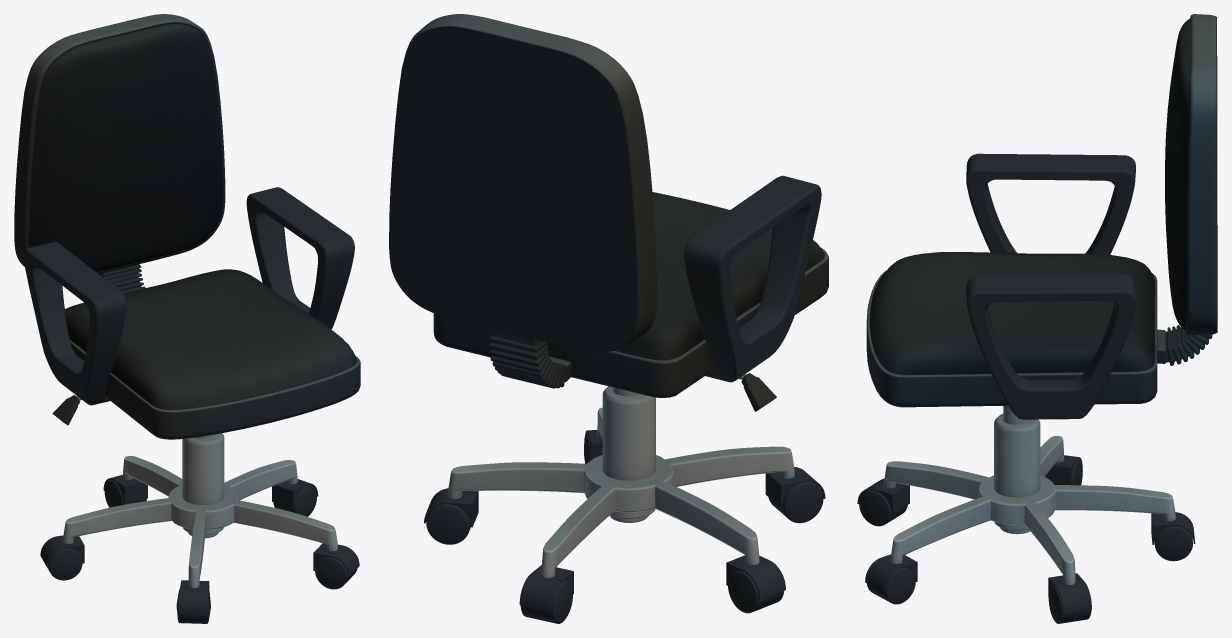
Rendered from OfficeChair.glb.
3 views of the same model, side by side, from view 1: azimuth 30°, elevation 25°; view 2: azimuth 150°, elevation 25°; view 3: azimuth 270°, elevation 25° (orthographic). The views are drawn at different scales.
Parts seen in each view (by area): view 1: chair.1; view 2: chair.1; view 3: chair.1.
Part boxes in pixels (<box>): chair.1: <box>14,14,360,623</box>; chair.1: <box>389,14,828,623</box>; chair.1: <box>857,14,1217,623</box>.
Size of the model in its own units: 0.1657 by 0.2703 by 0.1708.
1 material, 1 textured.
